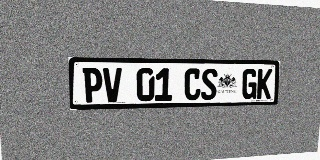0: (137, 68, 154, 101)
1: (155, 68, 172, 101)
C: (184, 68, 201, 100)
G: (241, 69, 258, 99)
K: (256, 69, 272, 99)
P: (82, 68, 103, 103)
S: (201, 68, 218, 100)
V: (103, 68, 122, 102)
